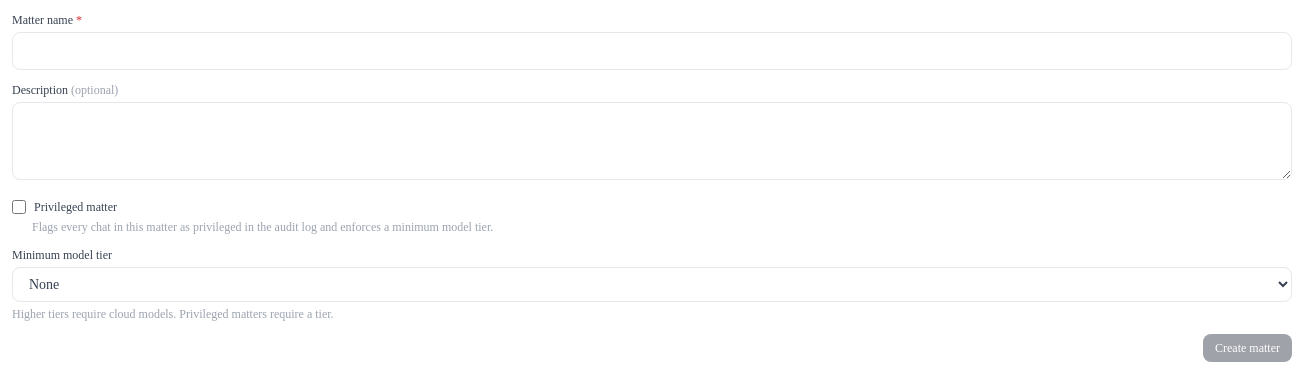
MatterForm › posts to the given action and disables submit until a name is typed
Expected: the button "Create matter" is disabled, [1203,334,1292,362]
In the field labelled "Matter name *": (652, 51) [12,32,1292,70], type "Acme MSA"
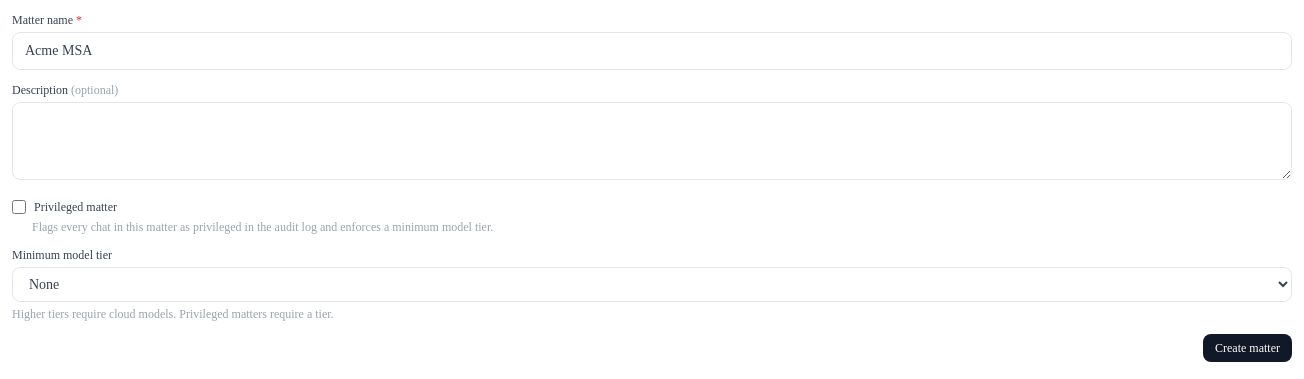
Now the button "Create matter" is enabled, box [1203,334,1292,362]
